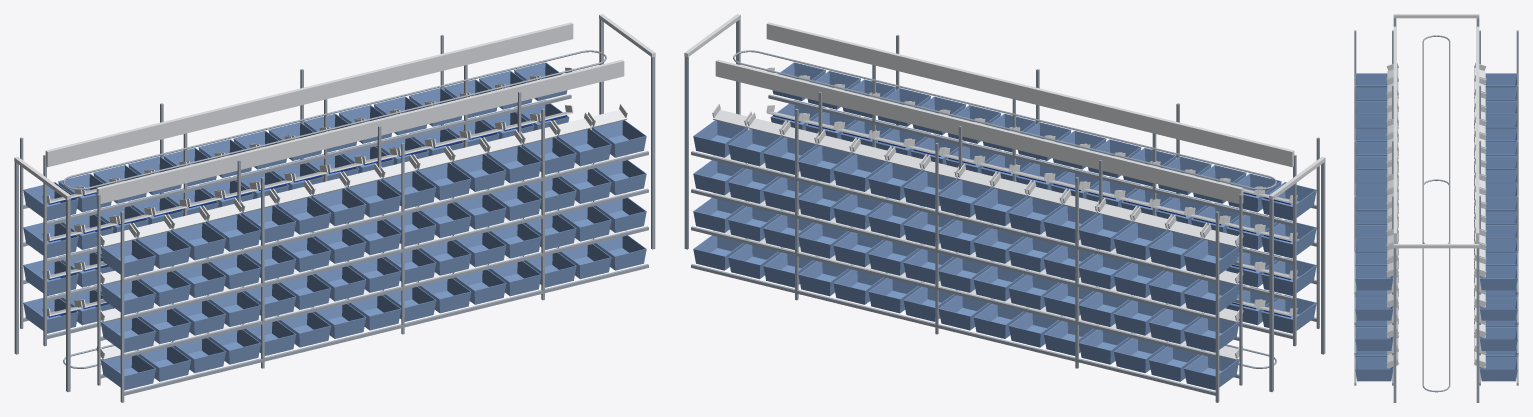
The model's file is SM_MPR_SorterSimBody120_LOD1.fbx.
3 views of the same model, side by side, from view 1: azimuth 30°, elevation 25°; view 2: azimuth 150°, elevation 25°; view 3: azimuth 270°, elevation 25° (orthographic). The views are drawn at different scales.
Parts seen in each view (by area): view 1: SM_MPR_SorterSimBody120_LOD1; view 2: SM_MPR_SorterSimBody120_LOD1; view 3: SM_MPR_SorterSimBody120_LOD1.
Boxes of the visible parts, left/top/right/bottom form: SM_MPR_SorterSimBody120_LOD1: left=14, top=14, right=655, bottom=402; SM_MPR_SorterSimBody120_LOD1: left=684, top=14, right=1325, bottom=402; SM_MPR_SorterSimBody120_LOD1: left=1354, top=14, right=1518, bottom=402.
Size of the model in its own units: 728 by 219 by 232.
